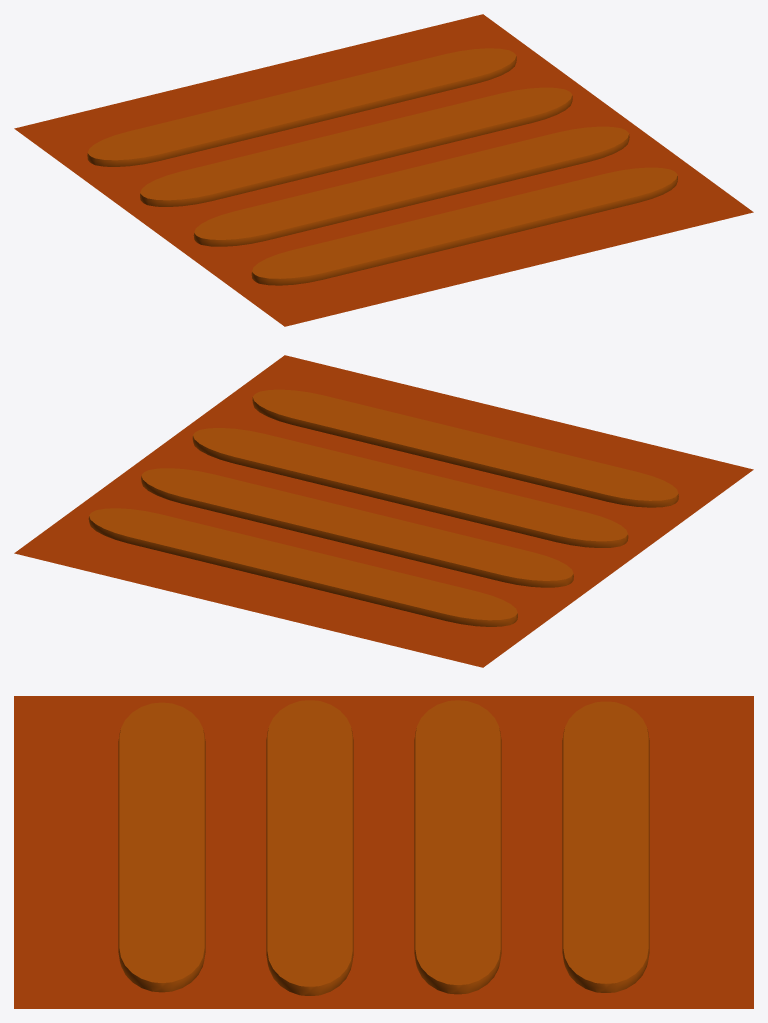
File: PisoDesvie.FBX
3 views of the same model, one above another, from view 1: azimuth 30°, elevation 25°; view 2: azimuth 150°, elevation 25°; view 3: azimuth 270°, elevation 25° (orthographic). The views are drawn at different scales.
Visible parts, largest first — view 1: Plane001, Capsule003, Capsule002, Capsule001, Capsule004; view 2: Plane001, Capsule003, Capsule002, Capsule001, Capsule004; view 3: Plane001, Capsule003, Capsule002, Capsule001, Capsule004.
Boxes of the visible parts, x1,y1,x2,y2 form: Plane001: (14,14,753,326); Capsule003: (193,126,629,246); Capsule002: (140,87,572,206); Capsule001: (87,48,516,166); Capsule004: (251,167,677,285); Plane001: (14,355,753,667); Capsule003: (192,428,628,547); Capsule002: (141,468,573,587); Capsule001: (88,508,517,626); Capsule004: (252,389,678,507); Plane001: (14,696,753,1008); Capsule003: (266,700,353,995); Capsule002: (414,700,501,994); Capsule001: (562,701,649,992); Capsule004: (118,702,205,992).
Size of the model in its own units: 2000 by 27.98 by 2000.
